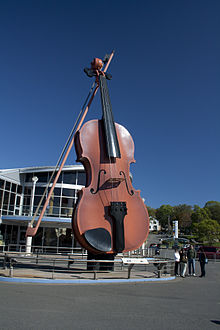Fiddle: (46, 48, 149, 253)
